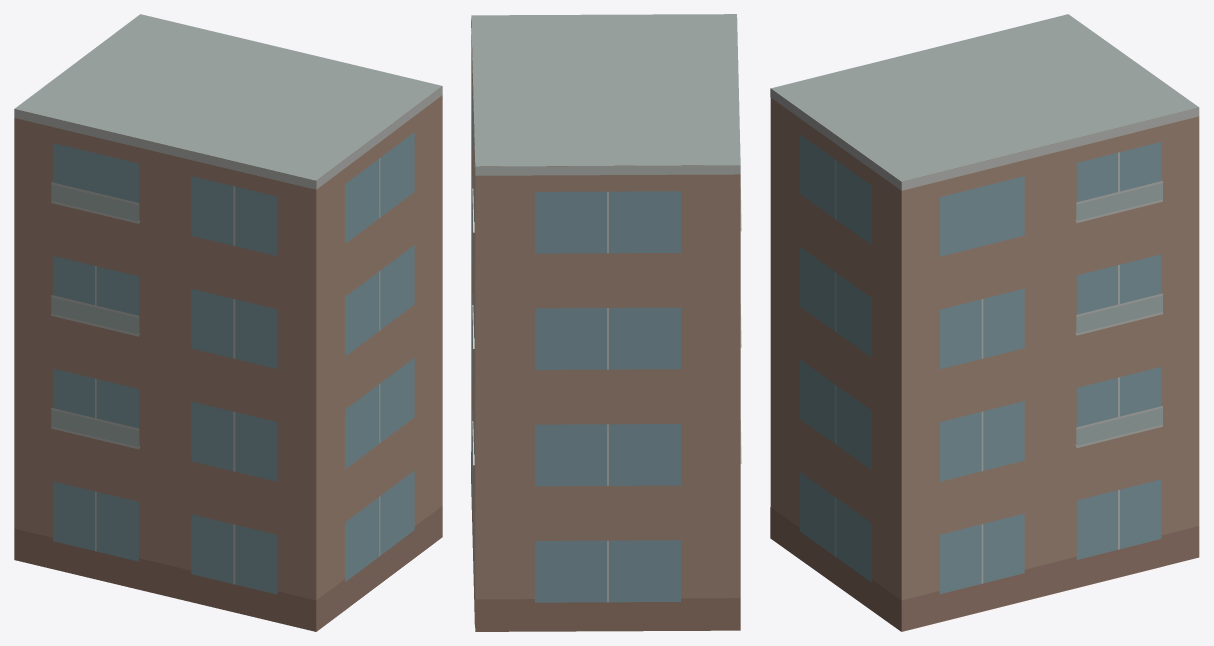
Rendered from residential-2f5ea3fe-12d7-4348-b9a9-68558307b694.glb.
The picture shows the model from 3 angles, left to right: view 1: azimuth 30°, elevation 25°; view 2: azimuth 150°, elevation 25°; view 3: azimuth 270°, elevation 25°; orthographic projection. The views are drawn at different scales.
Parts seen in each view (by area): view 1: residential-2f5ea3fe-12d7-4348-b9a9-68558307b694.tmp; view 2: residential-2f5ea3fe-12d7-4348-b9a9-68558307b694.tmp; view 3: residential-2f5ea3fe-12d7-4348-b9a9-68558307b694.tmp.
Boxes of the visible parts, x1,y1,x2,y2 form: residential-2f5ea3fe-12d7-4348-b9a9-68558307b694.tmp: (14,14,442,631); residential-2f5ea3fe-12d7-4348-b9a9-68558307b694.tmp: (471,14,741,631); residential-2f5ea3fe-12d7-4348-b9a9-68558307b694.tmp: (770,14,1199,631).
Size of the model in its own units: 9.77 by 12.2 by 10.54.
